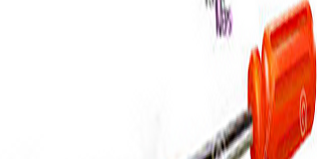Screwdriver: (143, 2, 317, 159)
